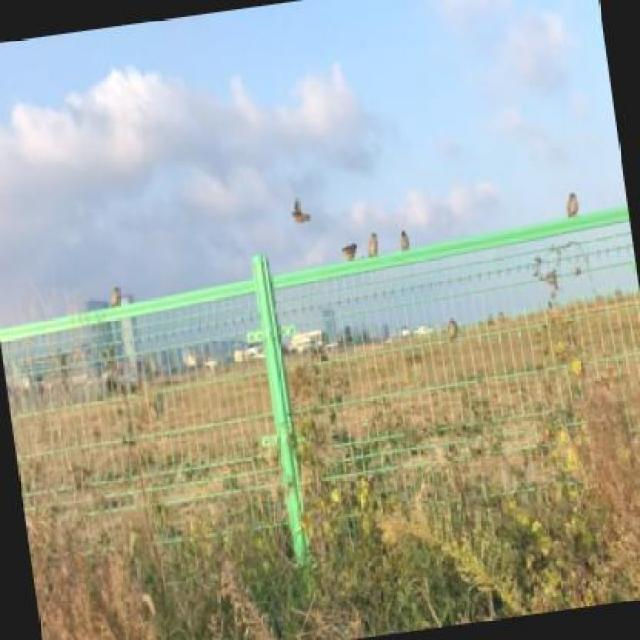Bird: (291, 195, 312, 225), (565, 191, 581, 220), (341, 240, 360, 262), (107, 284, 125, 307), (367, 232, 380, 259), (446, 316, 458, 342), (398, 230, 411, 252)
